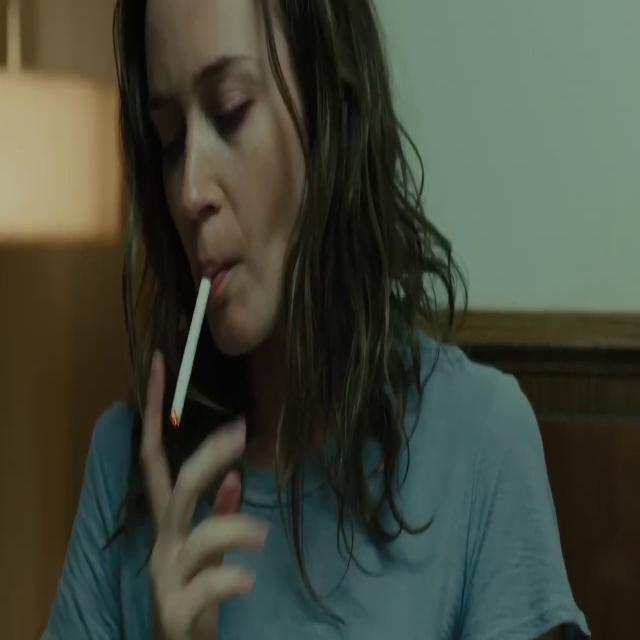Smooking: (158, 271, 218, 429)
